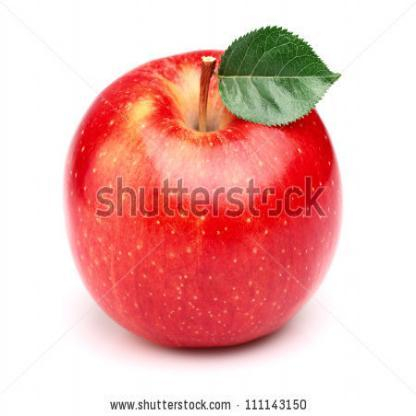Apple leaf: (214, 20, 352, 132)
